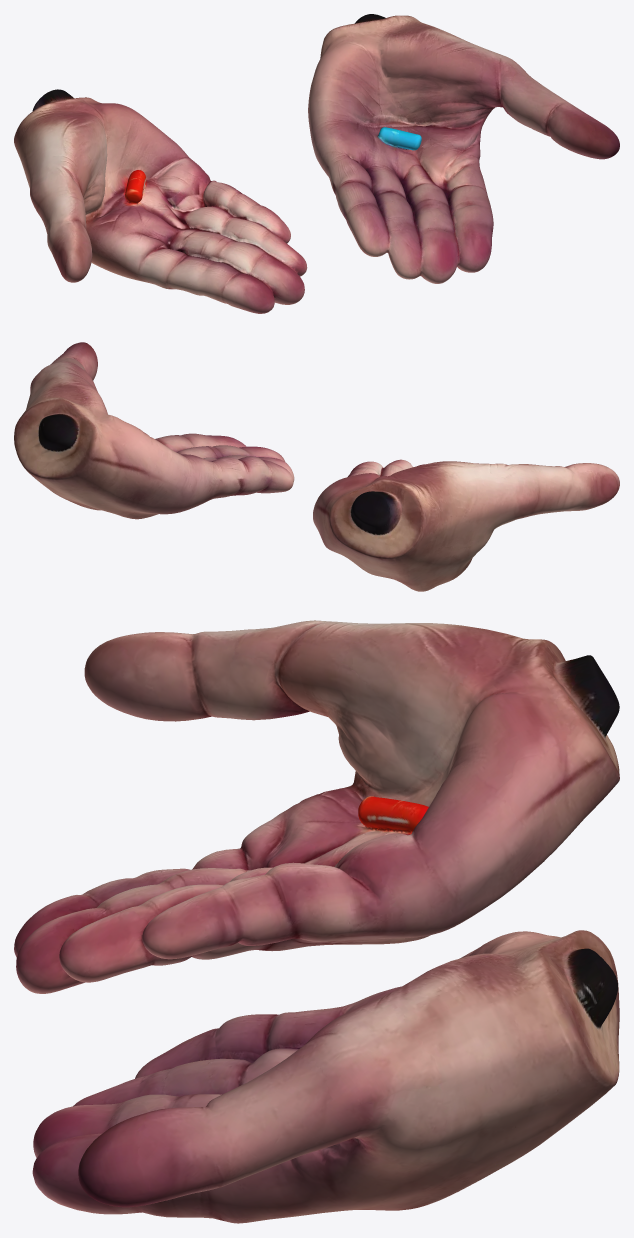
Rendered from pillhand.glb.
3 views of the same model, one above another, from view 1: azimuth 30°, elevation 25°; view 2: azimuth 150°, elevation 25°; view 3: azimuth 270°, elevation 25° (orthographic). The views are drawn at different scales.
Bounding box in the file's own units: 1.9 × 0.5075 × 0.9493.
1 material, 1 textured.
